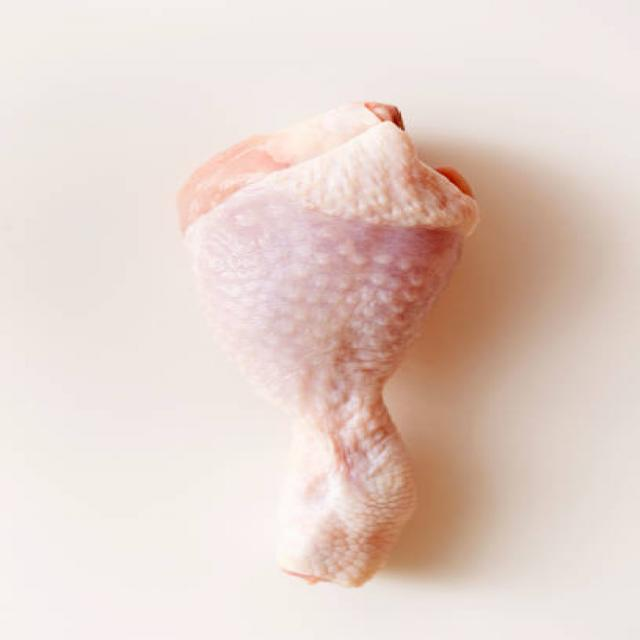Chicken: (167, 89, 480, 590)
